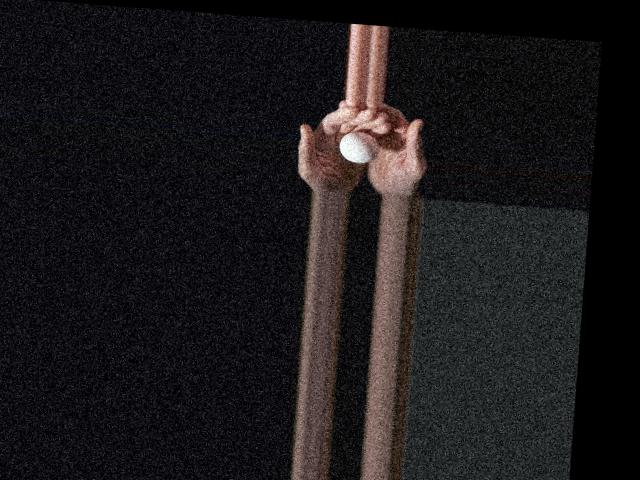egg: (337, 130, 380, 164)
